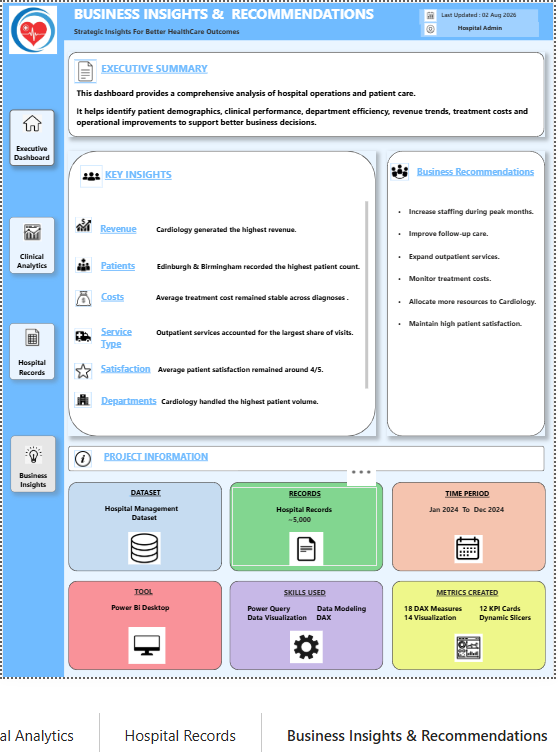

Layout of this report page (visuals, bound fields, positions):
{"tool":"powerbi","page":{"name":"Business Insights & Recommendations","canvas":[1470,1800],"ordinal":3},"visuals":[{"type":"shape","box":[0,101.4,165.7,1848.6],"z":0,"group":"g1"},{"type":"shape","box":[0,0,1470,102],"z":1000,"group":"g1"},{"type":"textbox","box":[176.7,0,848.3,73.3],"z":2000,"group":"g1"},{"type":"textbox","box":[176.7,60,571.7,41.7],"z":3000,"group":"g1"},{"type":"image","box":[8.6,8.6,145.7,128.6],"z":4000,"group":"g1"},{"type":"actionButton","box":[20,285,120,150],"z":5000,"group":"g1"},{"type":"cardVisual","fields":{"Data":["DAX Measures.Last Refresh"]},"box":[1096.7,1.7,350,73.3],"z":6000,"group":"g1"},{"type":"actionButton","box":[20,571.7,120,150],"z":7000,"group":"g1"},{"type":"image","box":[51.7,300,55,48.3],"z":8000,"group":"g1"},{"type":"image","box":[51.7,588.3,55,48.3],"z":9000,"group":"g1"},{"type":"actionButton","box":[21.7,1156.7,120,150],"z":10000,"group":"g1"},{"type":"actionButton","box":[20,855,120,150],"z":11000,"group":"g1"},{"type":"image","box":[56.7,1183.3,55,48.3],"z":12000,"group":"g1"},{"type":"image","box":[53.3,870,55,48.3],"z":13000,"group":"g1"},{"type":"textbox","box":[1115,53.3,315,40],"z":14000,"group":"g1"},{"type":"image","box":[1126.7,20,31.7,31.7],"z":15000,"group":"g1"},{"type":"shape","box":[176.7,133.3,1270,226.7],"z":16000,"group":"g1"},{"type":"image","box":[1126.7,51.7,31.7,38.3],"z":17000,"group":"g1"},{"type":"shape","box":[176.7,395,820,761.7],"z":18000,"group":"g1"},{"type":"textbox","box":[191.7,151.7,1238.3,196.7],"z":19000,"group":"g1"},{"type":"image","box":[191.7,151.7,58.3,63.3],"z":20000,"group":"g1"},{"type":"textbox","box":[191.7,435,340,78.3],"z":21000,"group":"g1"},{"type":"image","box":[210,435,56.7,56.7],"z":22000,"group":"g1"},{"type":"textbox","box":[191.7,525,788.3,586.7],"z":23000,"group":"g1"},{"type":"image","box":[196.7,571.7,41.7,41.7],"z":24000,"group":"g1"},{"type":"image","box":[196.7,680,41.7,41.7],"z":25000,"group":"g1"},{"type":"image","box":[196.7,770,41.7,41.7],"z":26000,"group":"g1"},{"type":"image","box":[191.7,870,46.7,41.7],"z":27000,"group":"g1"},{"type":"image","box":[191.7,963.3,46.7,41.7],"z":28000,"group":"g1"},{"type":"image","box":[193.3,1040,45,41.7],"z":29000,"group":"g1"},{"type":"shape","box":[1025,395,421.7,761.7],"z":30000,"group":"g1"},{"type":"textbox","box":[1096.7,428.3,331.7,70],"z":31000,"group":"g1"},{"type":"image","box":[1036.7,430,48.3,45],"z":32000,"group":"g1"},{"type":"textbox","box":[1036.7,538.3,393.3,588.3],"z":33000,"group":"g1"},{"type":"shape","box":[176.7,1183.3,1270,68.3],"z":34000,"group":"g1"},{"type":"textbox","box":[191.7,1188.3,435,58.3],"z":35000,"group":"g1"},{"type":"image","box":[193.3,1196.7,45,43.3],"z":36000,"group":"g1"},{"type":"shape","box":[176.7,1278.3,410,238.3],"z":37000,"group":"g1"},{"type":"textbox","box":[185,1290,388.3,210],"z":38000,"group":"g1"},{"type":"image","box":[333.3,1413.3,93.3,86.7],"z":39000,"group":"g1"},{"type":"shape","box":[1040,1278.3,410,238.3],"z":40000,"group":"g1"},{"type":"textbox","box":[1048.3,1294.7,388.3,210],"z":41000,"group":"g1"},{"type":"image","box":[1206.7,1413.3,75,91.7],"z":42000,"group":"g1"},{"type":"shape","box":[608.3,1278.3,410,238.3],"z":43000,"group":"g1"},{"type":"textbox","box":[612.3,1293.3,388.3,210],"z":44000,"group":"g1"},{"type":"image","box":[760,1413.3,103.3,90],"z":45000,"group":"g1"},{"type":"shape","box":[176,1541.7,410,238.3],"z":46000,"group":"g1"},{"type":"textbox","box":[184.3,1553.3,388.3,210],"z":47000,"group":"g1"},{"type":"image","box":[333.3,1665,106.7,98.3],"z":48000,"group":"g1"},{"type":"shape","box":[1039.3,1541.7,410,238.3],"z":49000,"group":"g1"},{"type":"textbox","box":[1047.7,1558,388.3,210],"z":50000,"group":"g1"},{"type":"image","box":[1206,1676.7,75,91.7],"z":51000,"group":"g1"},{"type":"shape","box":[607.7,1541.7,410,238.3],"z":52000,"group":"g1"},{"type":"textbox","box":[611.7,1556.7,388.3,210],"z":53000,"group":"g1"},{"type":"image","box":[760,1676.7,103.3,86.7],"z":54000,"group":"g1"},{"type":"group","id":"g1","title":"Group 1","box":[0,0,1470,1950],"z":54001}]}

Visuals, with their boxes on the page's 1470x1800 design canvas (x1, y1, x2, y2). These are canvas units, not pixel positions in the 558x752 screenshot, which may show the page scaled, cropped or inside an application window:
shape: <box>0,101,166,1950</box>
shape: <box>0,0,1470,102</box>
textbox: <box>177,0,1025,73</box>
textbox: <box>177,60,748,102</box>
image: <box>9,9,154,137</box>
actionButton: <box>20,285,140,435</box>
cardVisual - DAX Measures.Last Refresh: <box>1097,2,1447,75</box>
actionButton: <box>20,572,140,722</box>
image: <box>52,300,107,348</box>
image: <box>52,588,107,637</box>
actionButton: <box>22,1157,142,1307</box>
actionButton: <box>20,855,140,1005</box>
image: <box>57,1183,112,1232</box>
image: <box>53,870,108,918</box>
textbox: <box>1115,53,1430,93</box>
image: <box>1127,20,1158,52</box>
shape: <box>177,133,1447,360</box>
image: <box>1127,52,1158,90</box>
shape: <box>177,395,997,1157</box>
textbox: <box>192,152,1430,348</box>
image: <box>192,152,250,215</box>
textbox: <box>192,435,532,513</box>
image: <box>210,435,267,492</box>
textbox: <box>192,525,980,1112</box>
image: <box>197,572,238,613</box>
image: <box>197,680,238,722</box>
image: <box>197,770,238,812</box>
image: <box>192,870,238,912</box>
image: <box>192,963,238,1005</box>
image: <box>193,1040,238,1082</box>
shape: <box>1025,395,1447,1157</box>
textbox: <box>1097,428,1428,498</box>
image: <box>1037,430,1085,475</box>
textbox: <box>1037,538,1430,1127</box>
shape: <box>177,1183,1447,1252</box>
textbox: <box>192,1188,627,1247</box>
image: <box>193,1197,238,1240</box>
shape: <box>177,1278,587,1517</box>
textbox: <box>185,1290,573,1500</box>
image: <box>333,1413,427,1500</box>
shape: <box>1040,1278,1450,1517</box>
textbox: <box>1048,1295,1437,1505</box>
image: <box>1207,1413,1282,1505</box>
shape: <box>608,1278,1018,1517</box>
textbox: <box>612,1293,1001,1503</box>
image: <box>760,1413,863,1503</box>
shape: <box>176,1542,586,1780</box>
textbox: <box>184,1553,573,1763</box>
image: <box>333,1665,440,1763</box>
shape: <box>1039,1542,1449,1780</box>
textbox: <box>1048,1558,1436,1768</box>
image: <box>1206,1677,1281,1768</box>
shape: <box>608,1542,1018,1780</box>
textbox: <box>612,1557,1000,1767</box>
image: <box>760,1677,863,1763</box>
"Group 1" group: <box>0,0,1470,1950</box>
